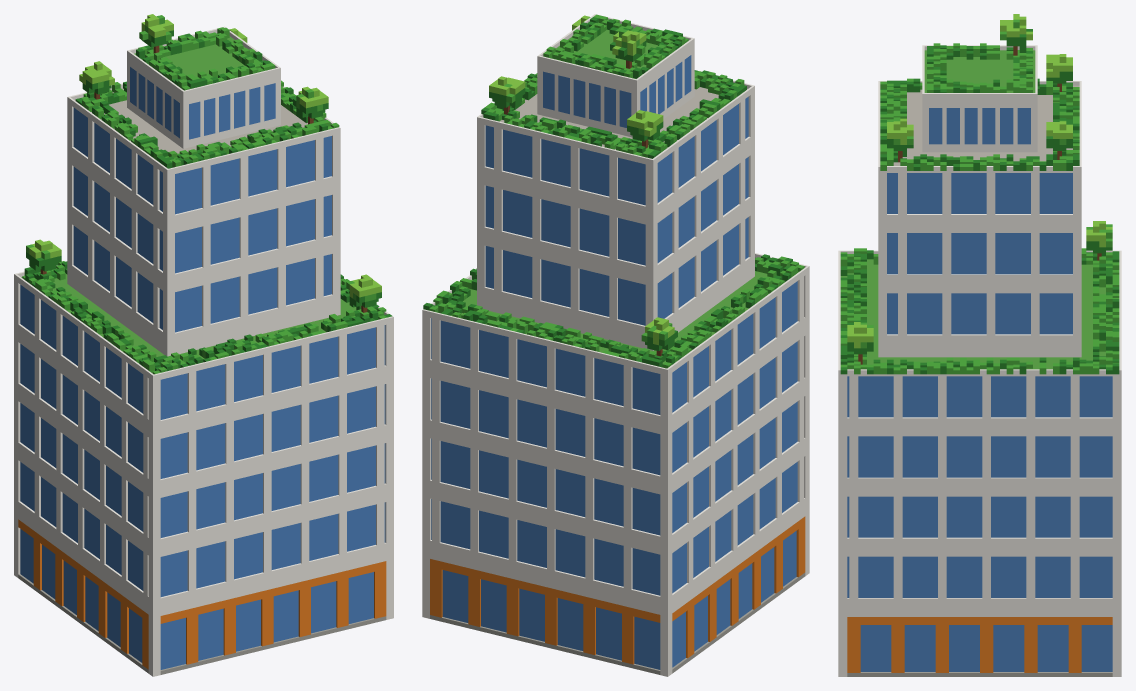
The model's file is tower_b.glb.
3 renders of one model, left to right at view 1: azimuth 30°, elevation 25°; view 2: azimuth 150°, elevation 25°; view 3: azimuth 270°, elevation 25°, orthographic.
Visible parts, largest first — view 1: tower; view 2: tower; view 3: tower.
Part boxes in pixels (x1=…): tower: x1=14, y1=14, x2=393, y2=676; tower: x1=422, y1=14, x2=809, y2=676; tower: x1=838, y1=14, x2=1121, y2=676.
Bounding box in the file's own units: 12.8 × 29.1 × 12.8.
